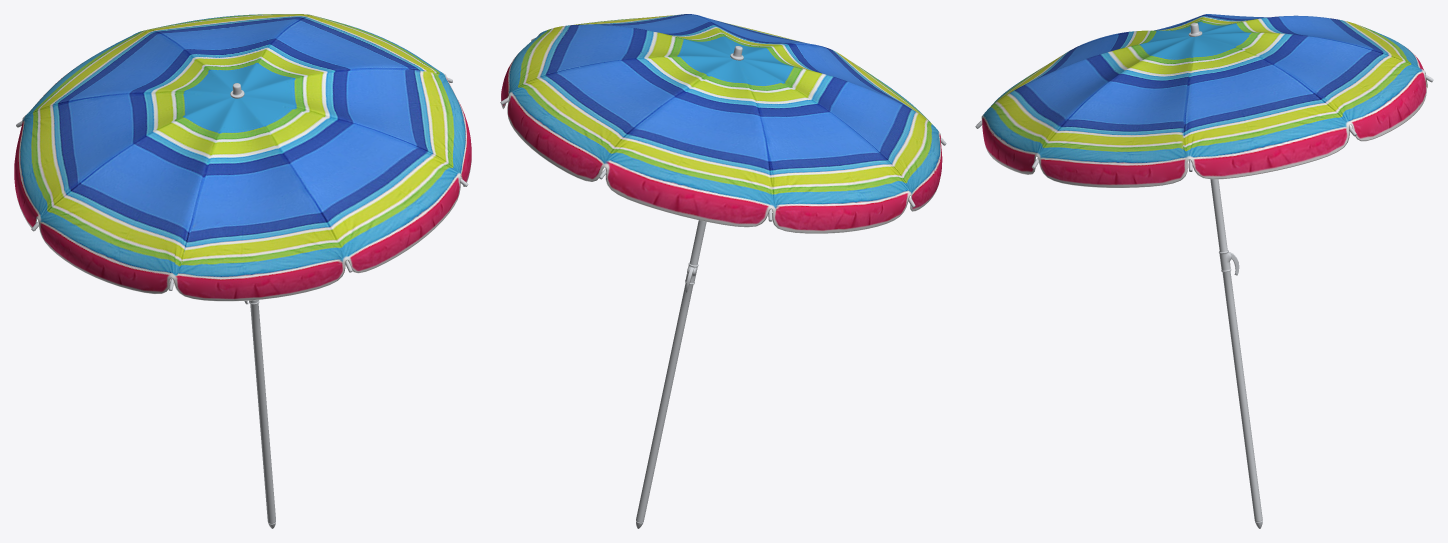
The model's file is Umbrella.fbx.
3 renders of one model, left to right at view 1: azimuth 30°, elevation 25°; view 2: azimuth 150°, elevation 25°; view 3: azimuth 270°, elevation 25°, orthographic. The views are drawn at different scales.
Parts seen in each view (by area): view 1: 12984_beach_umbrella_v1_L2; view 2: 12984_beach_umbrella_v1_L2; view 3: 12984_beach_umbrella_v1_L2.
Boxes of the visible parts, box(x1,y1,x2,y2) form: 12984_beach_umbrella_v1_L2: box(14, 14, 471, 528); 12984_beach_umbrella_v1_L2: box(500, 14, 946, 528); 12984_beach_umbrella_v1_L2: box(975, 14, 1433, 528).
Bounding box in the file's own units: 1170 × 1334 × 1172.
